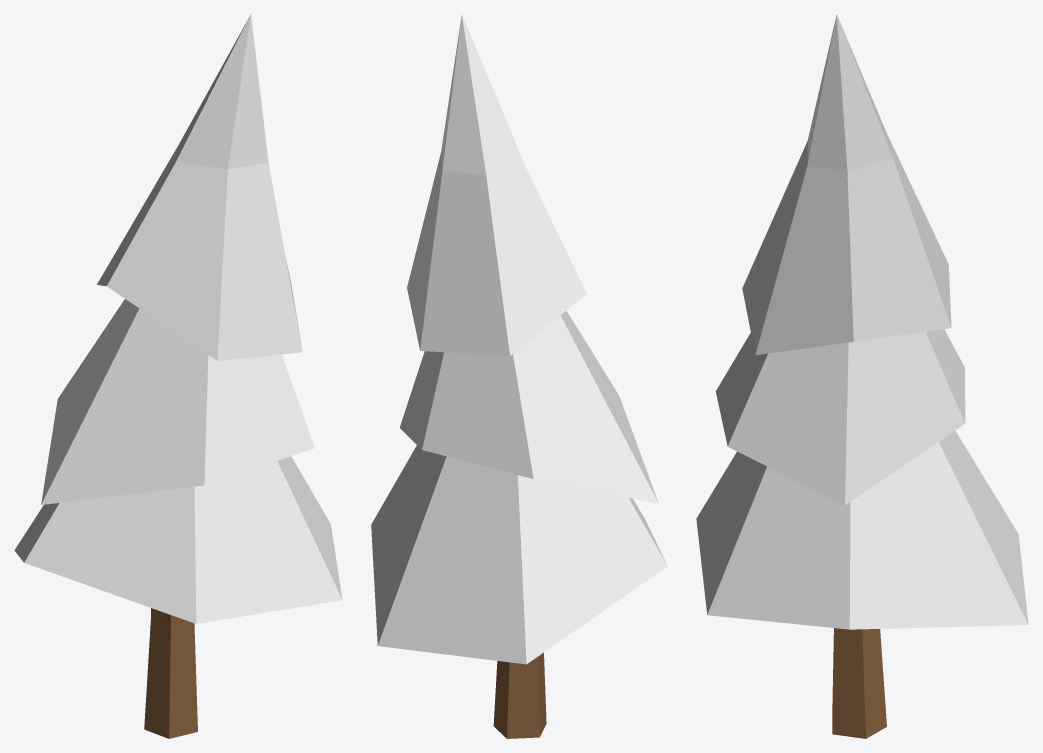
Rendered from Pine_Tree_OneSided_s_Snow_04_LOD.fbx.
3 renders of one model, left to right at view 1: azimuth 30°, elevation 25°; view 2: azimuth 150°, elevation 25°; view 3: azimuth 270°, elevation 25°, orthographic. The views are drawn at different scales.
Visible parts, largest first — view 1: Pine_Tree_OneSided_s_Snow_04_LOD0; view 2: Pine_Tree_OneSided_s_Snow_04_LOD0; view 3: Pine_Tree_OneSided_s_Snow_04_LOD0.
Boxes of the visible parts, box(x1,y1,x2,y2) form: Pine_Tree_OneSided_s_Snow_04_LOD0: box(14, 14, 342, 738); Pine_Tree_OneSided_s_Snow_04_LOD0: box(371, 14, 667, 738); Pine_Tree_OneSided_s_Snow_04_LOD0: box(696, 14, 1028, 738).
Size of what is drawn, in the model's own units: 132 by 292 by 117.
